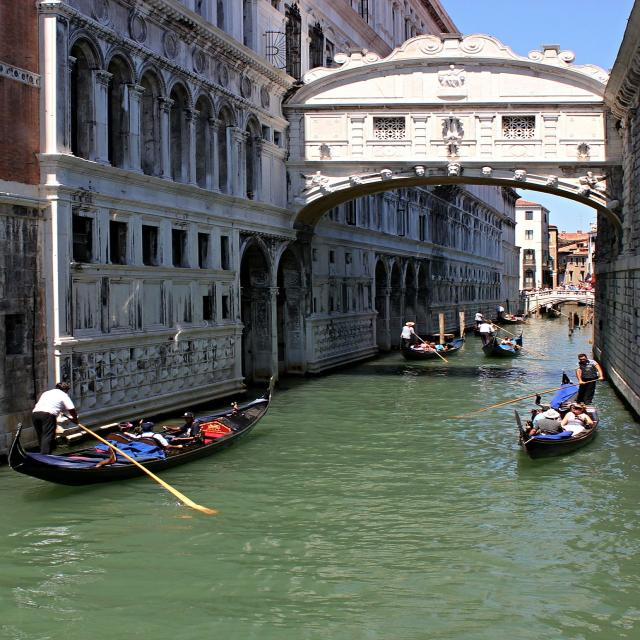boat: (10, 385, 282, 490), (502, 360, 608, 476), (389, 312, 472, 370), (477, 319, 534, 364)
